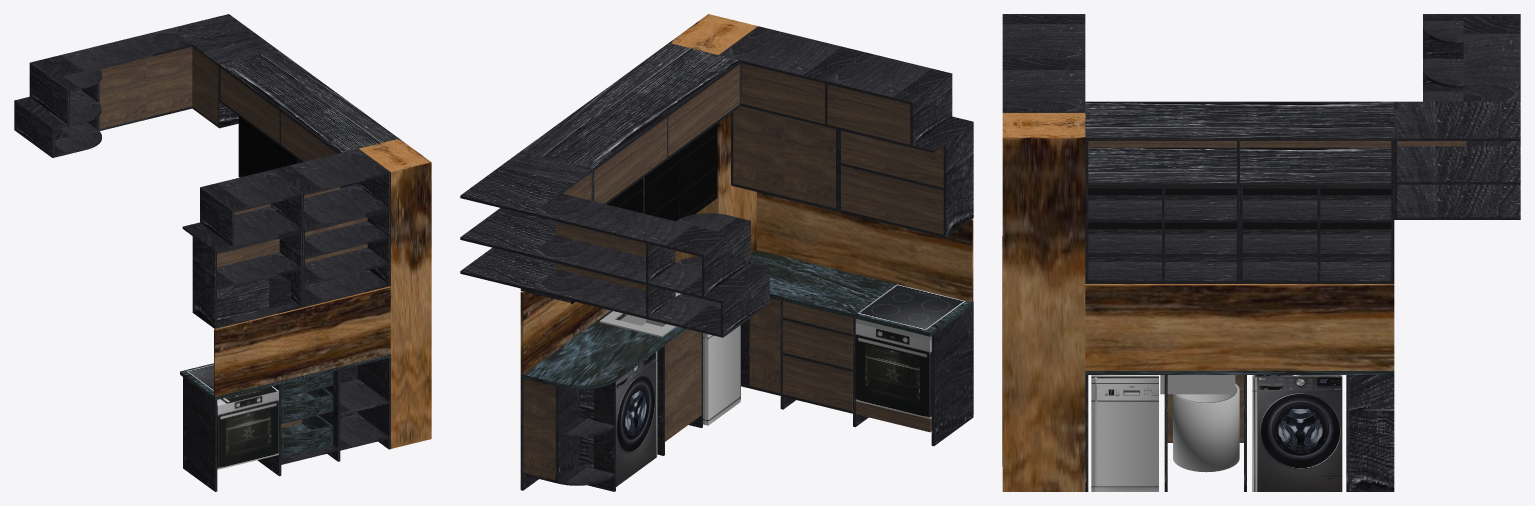
The model's file is kitchen.glb.
The picture shows the model from 3 angles, left to right: view 1: azimuth 30°, elevation 25°; view 2: azimuth 150°, elevation 25°; view 3: azimuth 270°, elevation 25°; orthographic projection. The views are drawn at different scales.
Visible parts, largest first — view 1: Object_9, Object_12, Object_10, Object_13, Object_5, Object_8, Object_7; view 2: Object_9, Object_10, Object_12, Object_13, Object_5, Object_7, Object_6, Object_8, Object_4, Object_3, Object_11; view 3: Object_9, Object_12, Object_6, Object_4, Object_11, Object_7, Object_10, Object_8, Object_13.
Boxes of the visible parts, box(x1,y1,x2,y2) form: Object_9: box(14, 14, 398, 491); Object_12: box(214, 138, 431, 448); Object_10: box(98, 47, 367, 428); Object_13: box(180, 354, 390, 458); Object_5: box(217, 386, 278, 469); Object_8: box(35, 68, 101, 157); Object_7: box(238, 116, 301, 177); Object_9: box(460, 26, 973, 491); Object_10: box(523, 63, 943, 480); Object_12: box(520, 14, 973, 374); Object_13: box(520, 250, 973, 389); Object_5: box(855, 323, 931, 419); Object_7: box(570, 124, 717, 304); Object_6: box(616, 351, 657, 486); Object_8: box(558, 213, 769, 485); Object_4: box(703, 325, 740, 425); Object_3: box(858, 284, 965, 329); Object_11: box(599, 292, 931, 340); Object_9: box(1002, 14, 1520, 491); Object_12: box(1002, 113, 1394, 491); Object_6: box(1252, 375, 1342, 491); Object_4: box(1091, 375, 1158, 491); Object_11: box(1160, 375, 1239, 472); Object_7: box(1088, 188, 1391, 229); Object_10: box(1088, 141, 1466, 442); Object_8: box(1423, 15, 1463, 101); Object_13: box(1002, 236, 1394, 374).
Bounding box in the file's own units: 2.13 × 2.6 × 3.45.
Materials: 11 (9 with a texture image).
